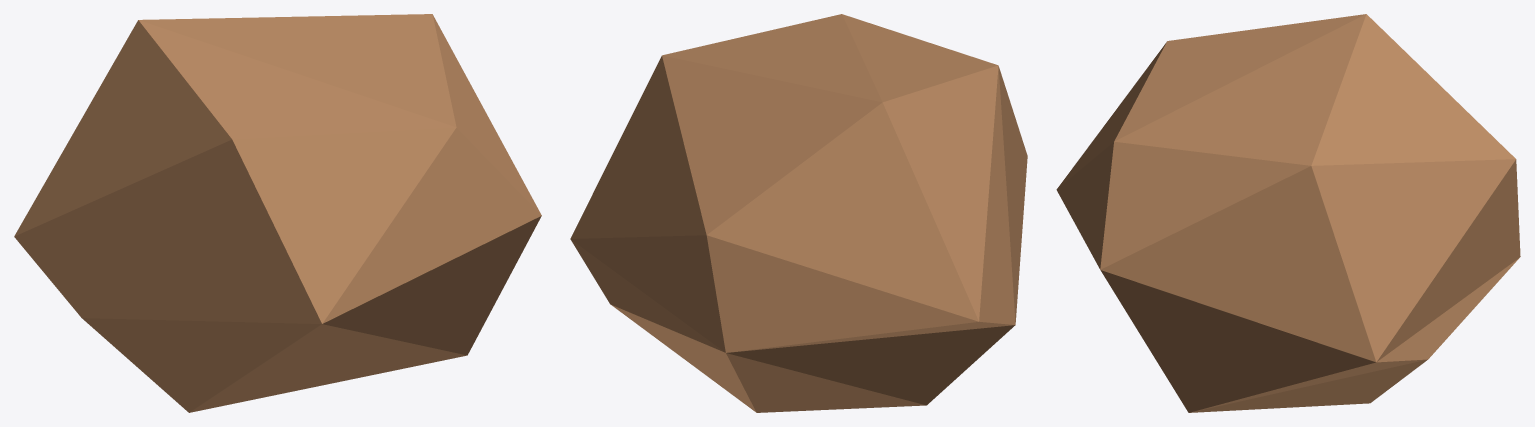
File: rock1.fbx
3 views of the same model, side by side, from view 1: azimuth 30°, elevation 25°; view 2: azimuth 150°, elevation 25°; view 3: azimuth 270°, elevation 25° (orthographic). The views are drawn at different scales.
Parts seen in each view (by area): view 1: rock1; view 2: rock1; view 3: rock1.
Part boxes in pixels (bbox=[...]): rock1: bbox=[14, 14, 541, 412]; rock1: bbox=[570, 14, 1027, 412]; rock1: bbox=[1056, 14, 1520, 412].
Size of the model in its own units: 188 by 147 by 187.
